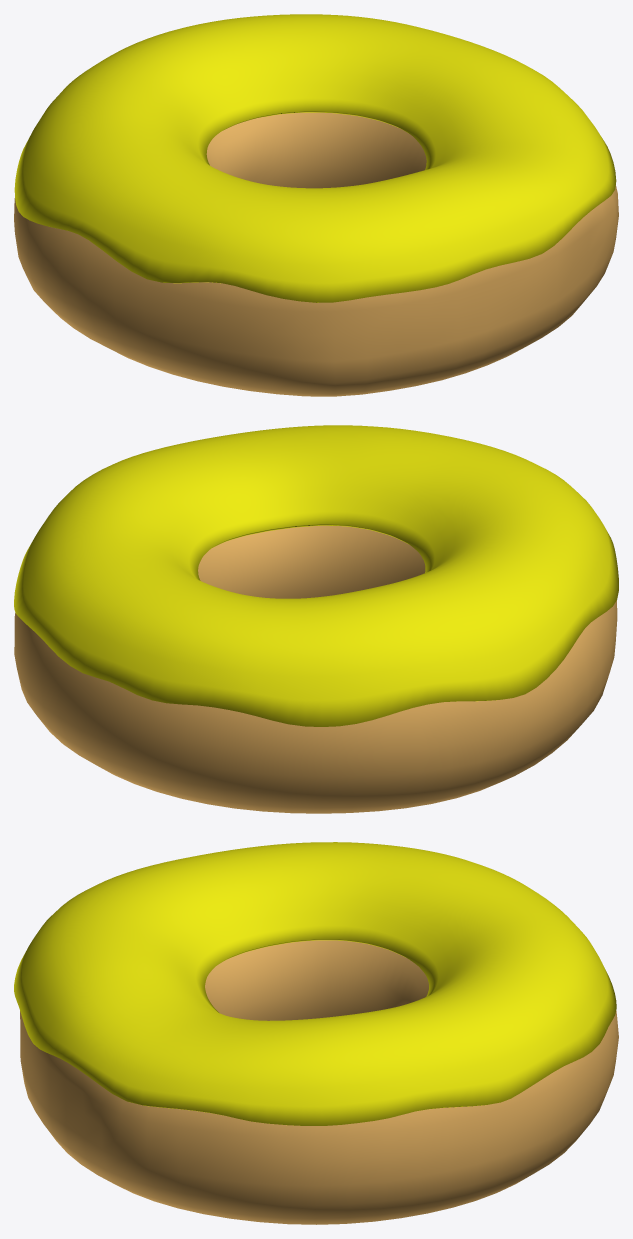
The picture shows the model from 3 angles, top to bottom: view 1: azimuth 30°, elevation 25°; view 2: azimuth 150°, elevation 25°; view 3: azimuth 270°, elevation 25°; orthographic projection. The views are drawn at different scales.
Visible parts, largest first — view 1: Object_66; view 2: Object_66; view 3: Object_66.
Part boxes in pixels (x1,y1,x2,y2): Object_66: [14, 14, 618, 396]; Object_66: [14, 425, 618, 813]; Object_66: [14, 842, 618, 1224].
Bounding box in the file's own units: 59.11 × 21.49 × 59.62.
